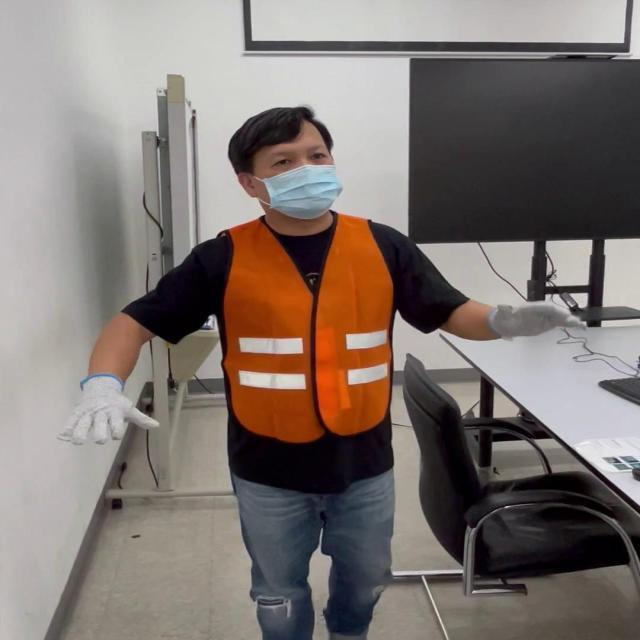gloved_hand: (67, 367, 167, 454), (488, 289, 585, 346)
